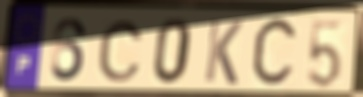0: (150, 17, 193, 88)
5: (305, 18, 344, 89)
6: (50, 17, 89, 85)
C: (249, 13, 301, 93), (96, 19, 146, 84)
K: (202, 18, 245, 88)
